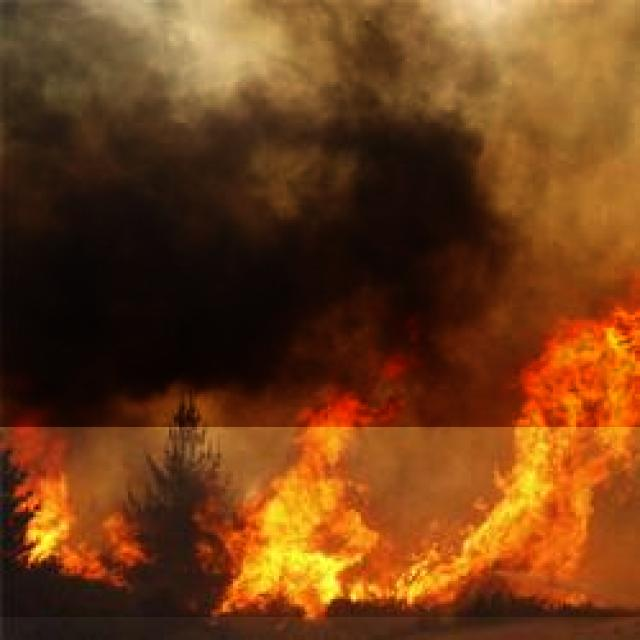Fire: (0, 319, 640, 617)
Smoke: (0, 0, 640, 427)
